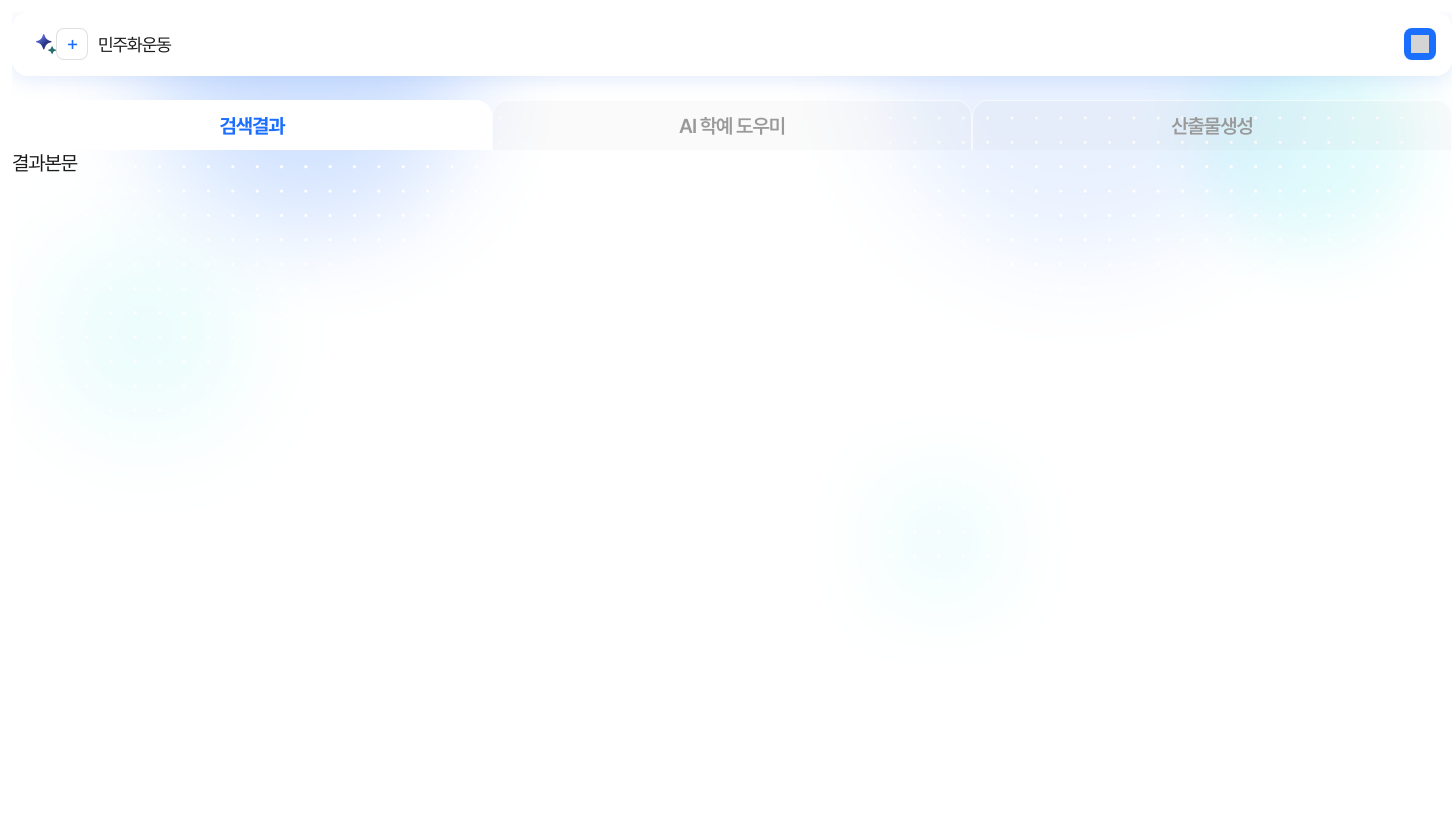
it: 라이브 결과·브리핑 모두 종결(briefStatus="ok"): 탭이 다시 활성화되고 정상 이동한다
Click the link "AI 학예 도우미" at [732, 125], box [492, 100, 972, 150]
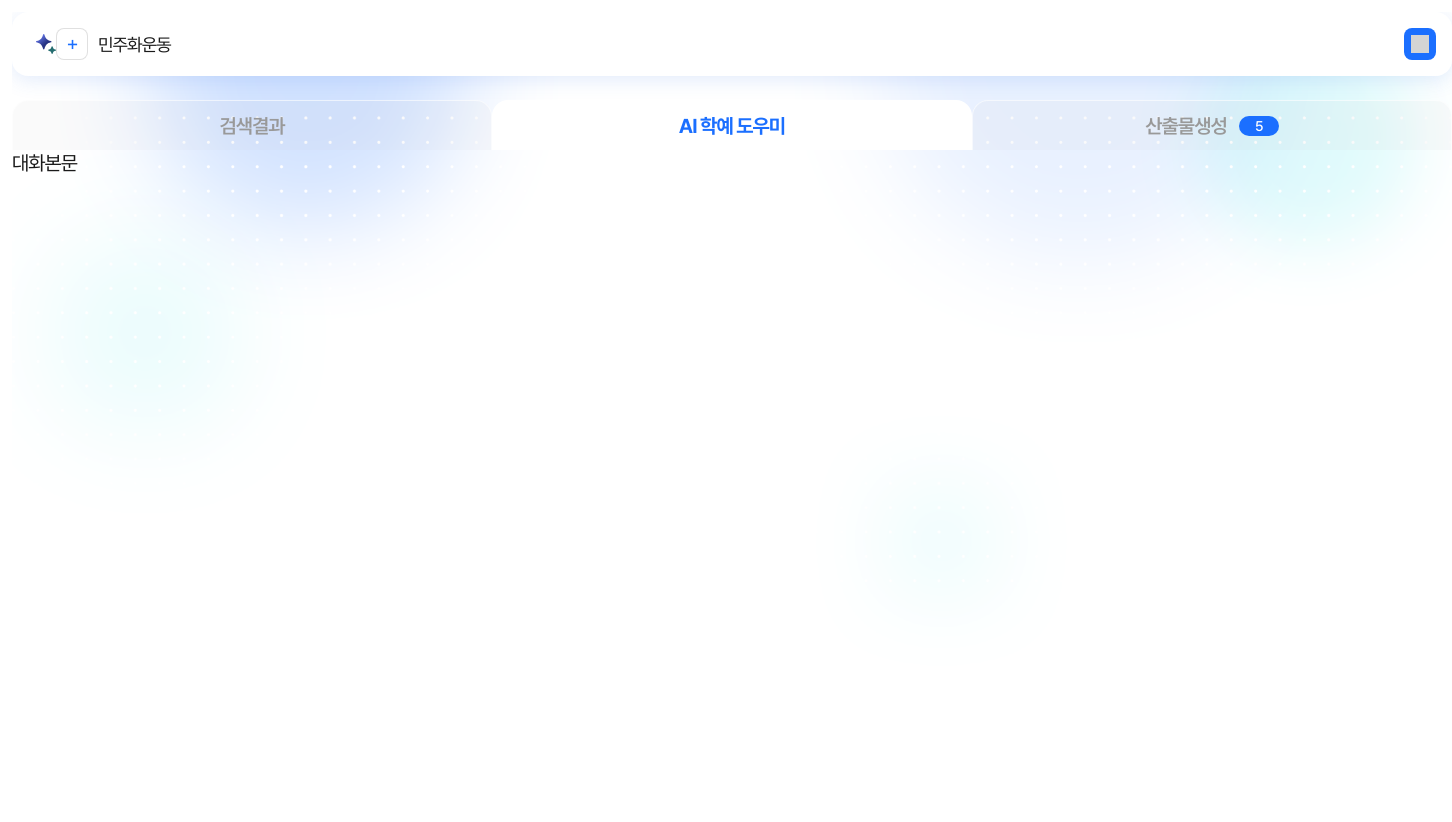
Check: the text "대화본문" is shown, box [12, 151, 77, 175]
